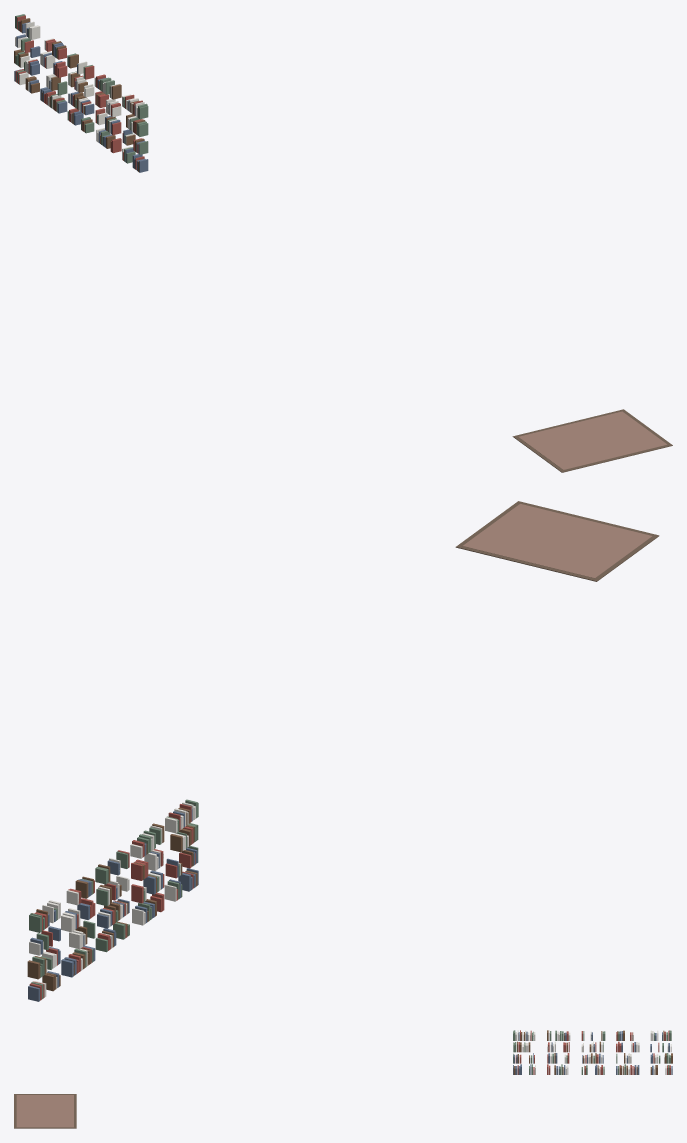
The model's file is fine-s3.glb.
3 views of the same model, one above another, from view 1: azimuth 30°, elevation 25°; view 2: azimuth 150°, elevation 25°; view 3: azimuth 270°, elevation 25° (orthographic). The views are drawn at different scales.
Parts seen in each view (by area): view 1: soft-s3; view 2: soft-s3; view 3: soft-s3.
Boxes of the visible parts, box(x1,y1,x2,y2) form: soft-s3: box(14, 14, 672, 472); soft-s3: box(27, 501, 659, 1001); soft-s3: box(14, 1030, 672, 1128).
Size of the model in its own units: 3.3 by 1.93 by 21.04.
